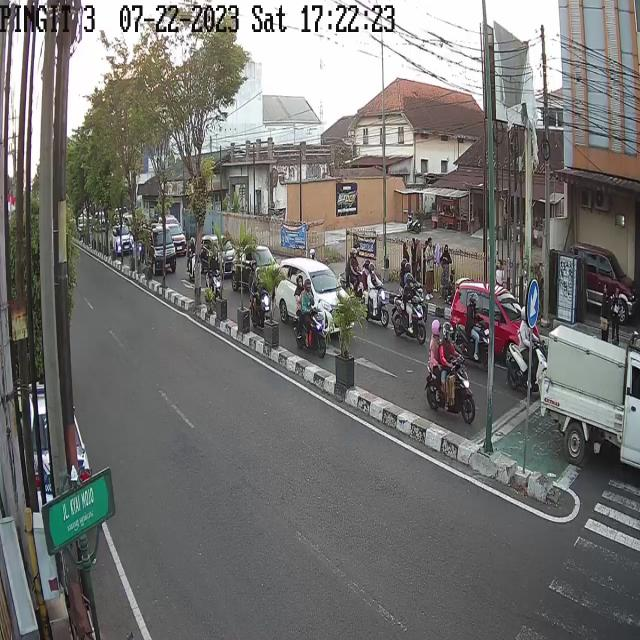car: (450, 278, 541, 364), (276, 262, 354, 339), (574, 244, 636, 312), (231, 246, 281, 292), (200, 234, 238, 271), (157, 215, 187, 257), (112, 222, 136, 260)
motorcycle: (424, 317, 477, 425), (505, 308, 548, 396), (294, 276, 327, 356), (455, 293, 490, 365), (392, 274, 426, 341), (360, 260, 388, 331), (246, 258, 272, 333), (345, 244, 361, 304), (206, 250, 221, 307), (188, 236, 198, 280)
truck: (539, 314, 640, 490), (141, 225, 179, 279)
